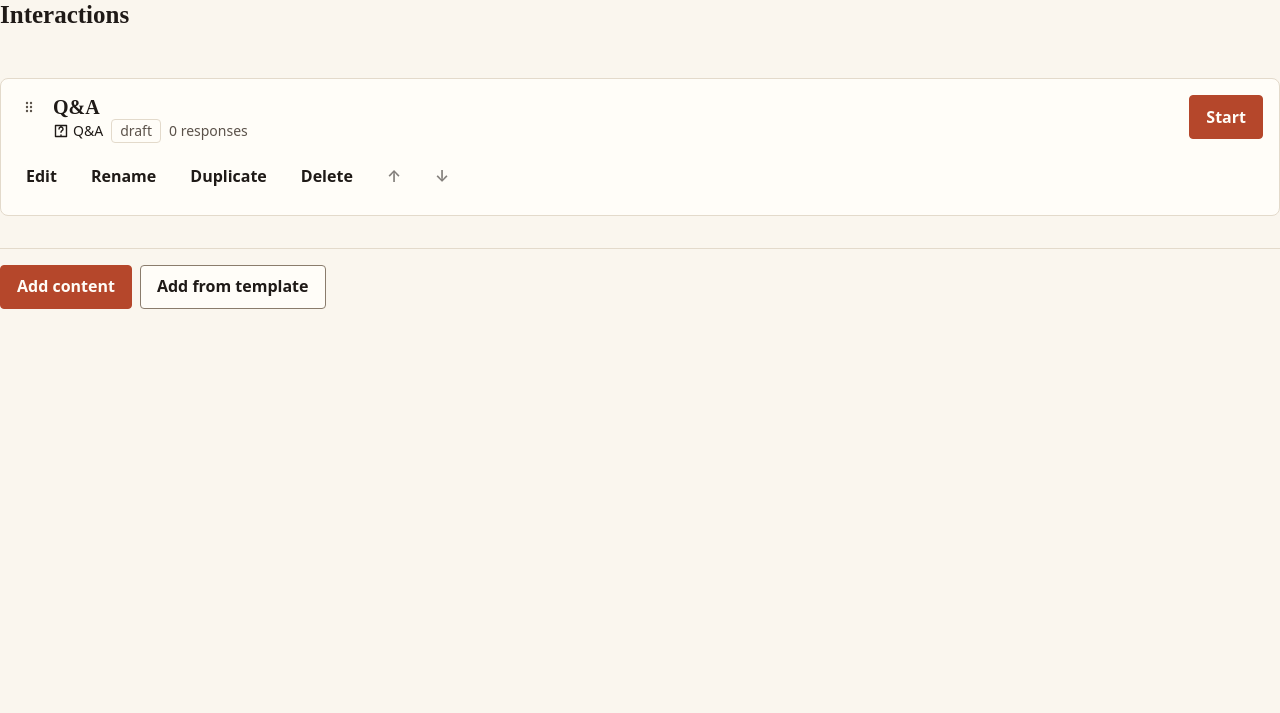
Test case: PollManager › edits a draft Q&A through PATCH
This screenshot has width=1280, height=713.
Click the button "Edit" at [41, 177], box [9,155,74,199]
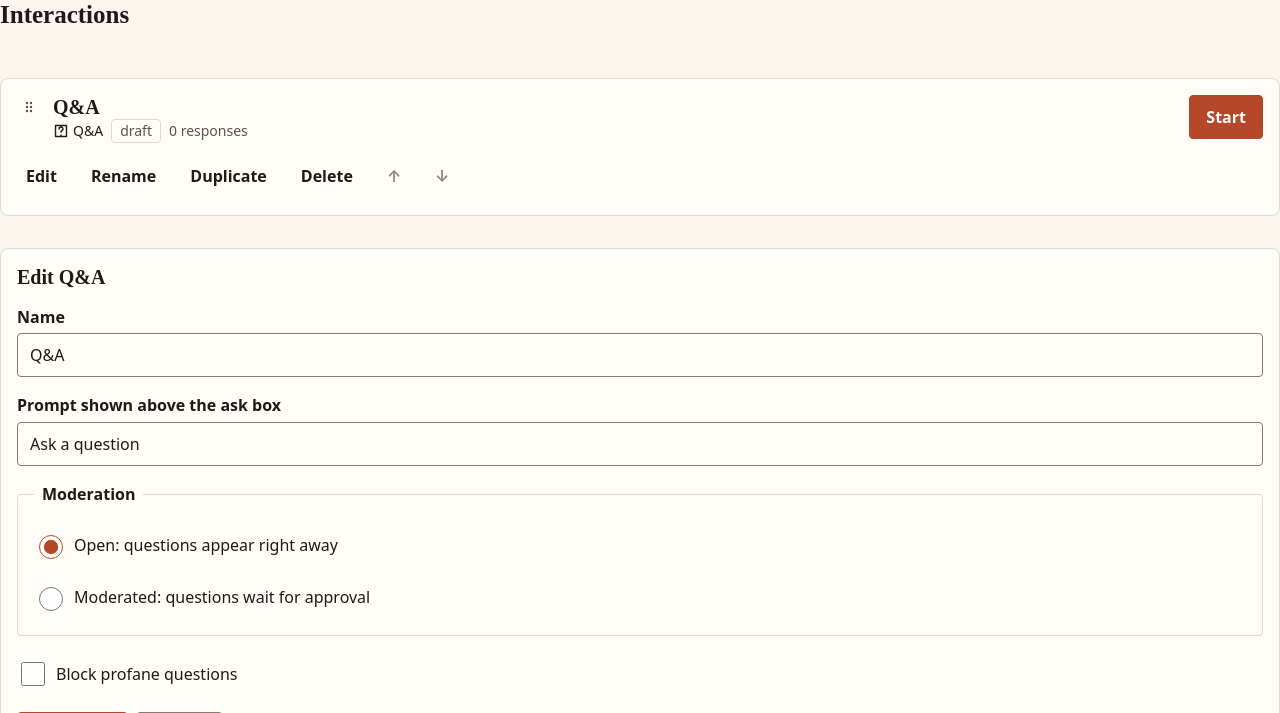
Now the checkbox labelled "Block profane questions" is not checked, box [21,662,45,686]
Replace the text in the field labelled "Name" with "Renamed" at [640, 356], box [17,334,1263,378]
(page scrolled)
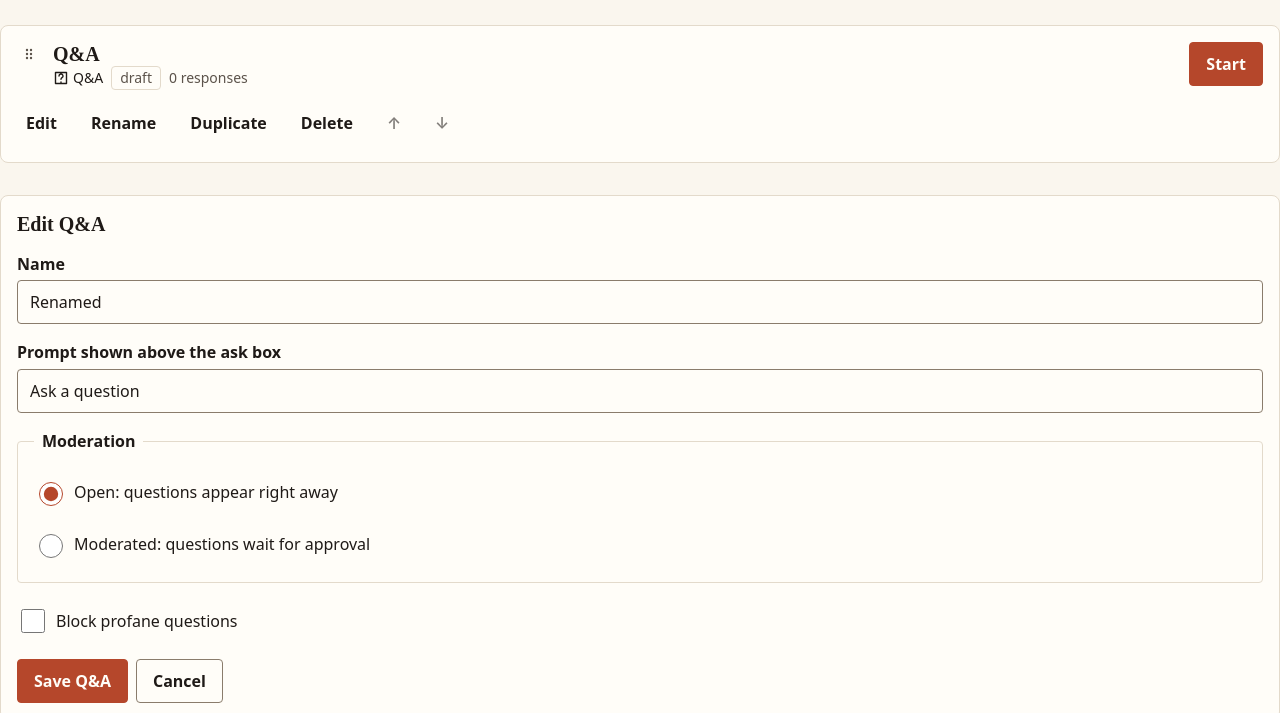
Click the button "Save Q&A" at [72, 681], box [17,659,128,703]
(page scrolled)
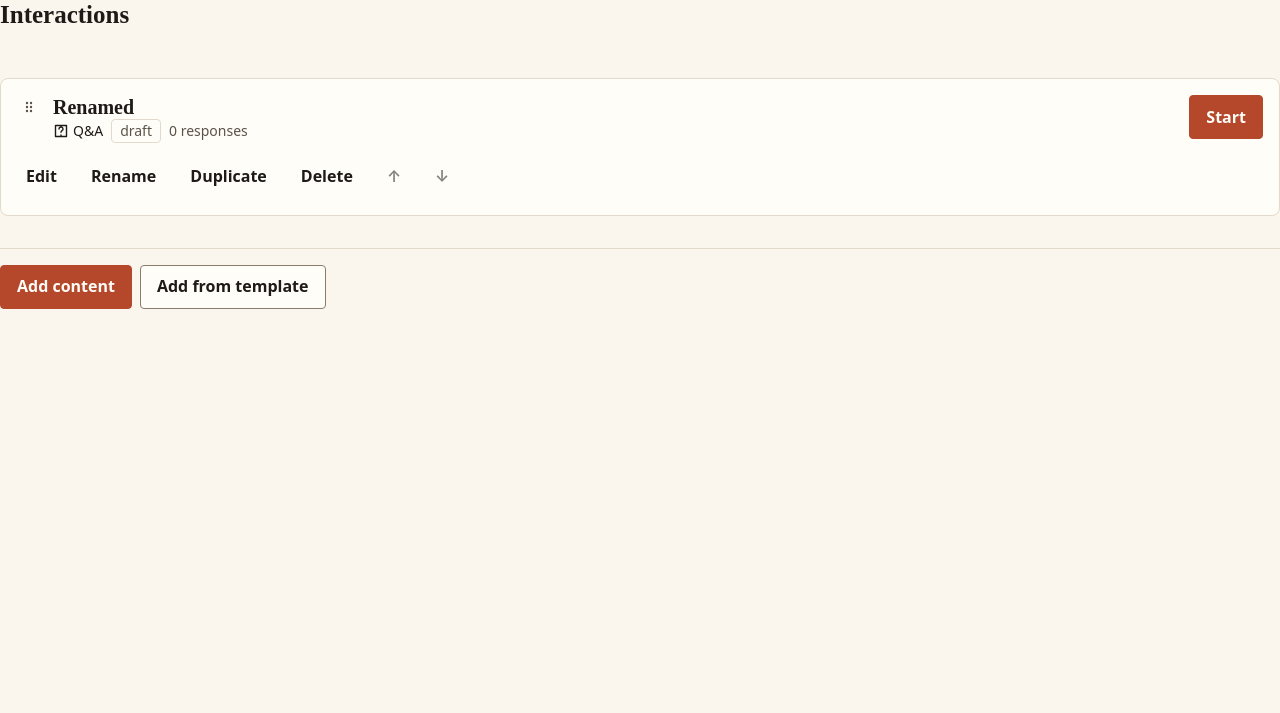
Now the heading "Renamed" is shown, box [53,96,134,118]
